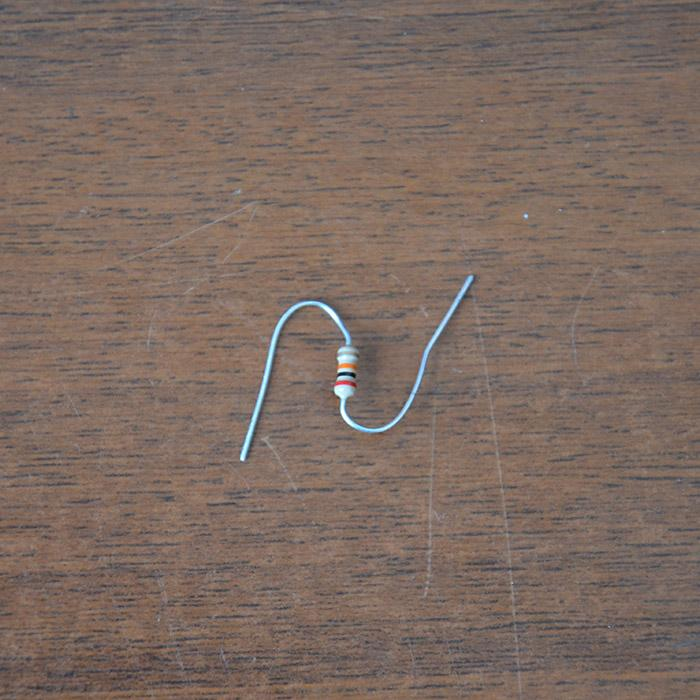resistor: (333, 346, 360, 399)
